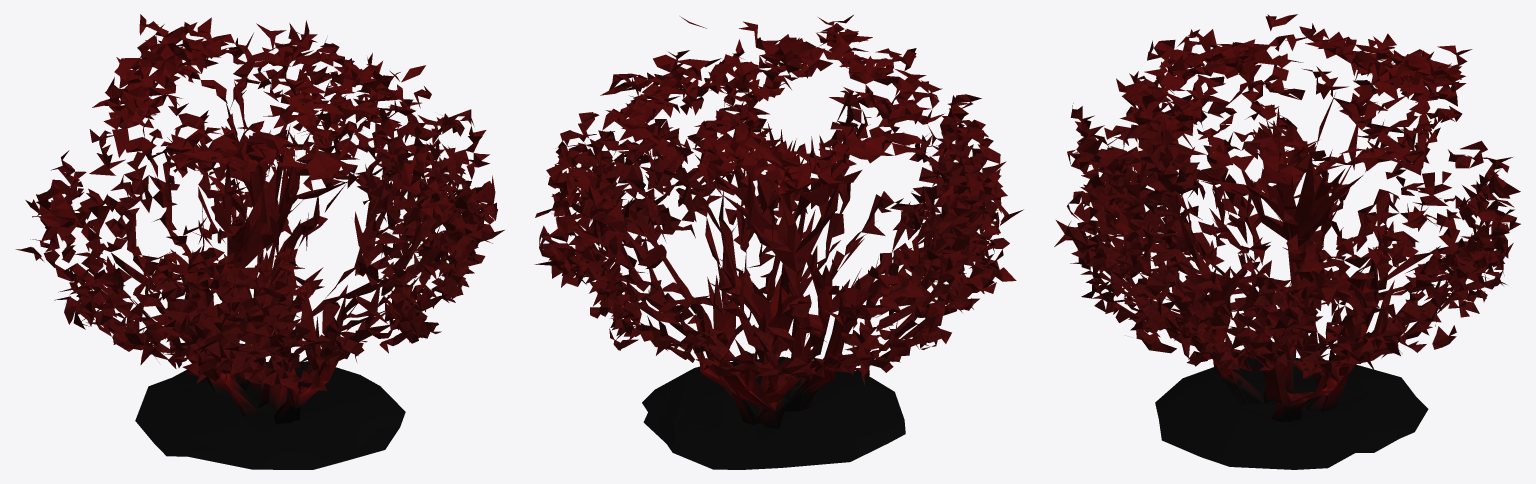
File: prop_boxwood.glb
The picture shows the model from 3 angles, left to right: view 1: azimuth 30°, elevation 25°; view 2: azimuth 150°, elevation 25°; view 3: azimuth 270°, elevation 25°; orthographic projection.
Parts seen in each view (by area): view 1: output_unwrapped; view 2: output_unwrapped; view 3: output_unwrapped.
Part boxes in pixels (box(x1,y1,x2,y2)): output_unwrapped: box(15, 14, 504, 469); output_unwrapped: box(534, 15, 1023, 469); output_unwrapped: box(1054, 14, 1520, 469).
Bounding box in the file's own units: 1.69 × 1.43 × 1.66.
Materials: 1 (1 with a texture image).
